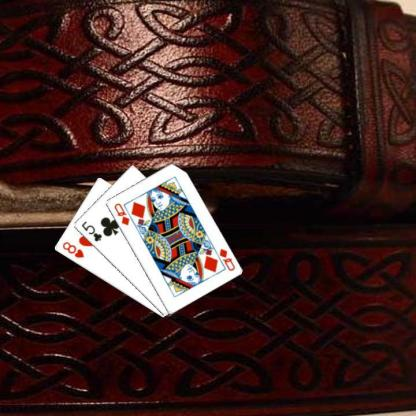5C: (78, 218, 103, 243)
8H: (59, 240, 85, 260)
QD: (216, 246, 235, 272), (112, 200, 130, 226)
